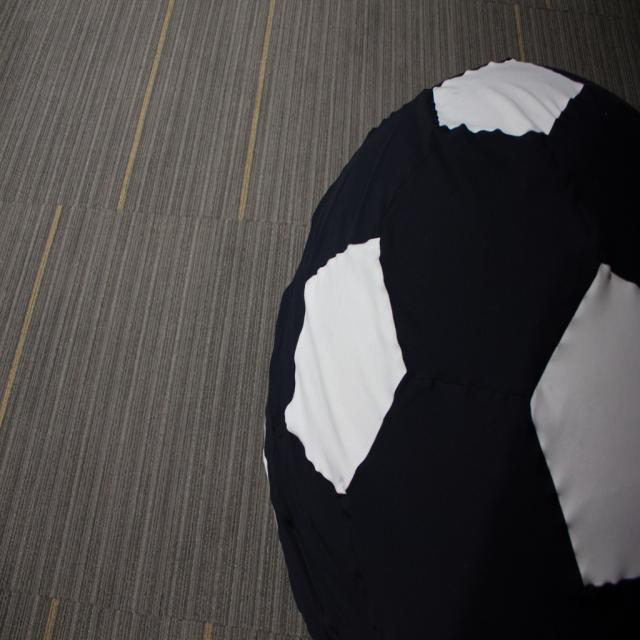ball: (266, 56, 640, 640)
